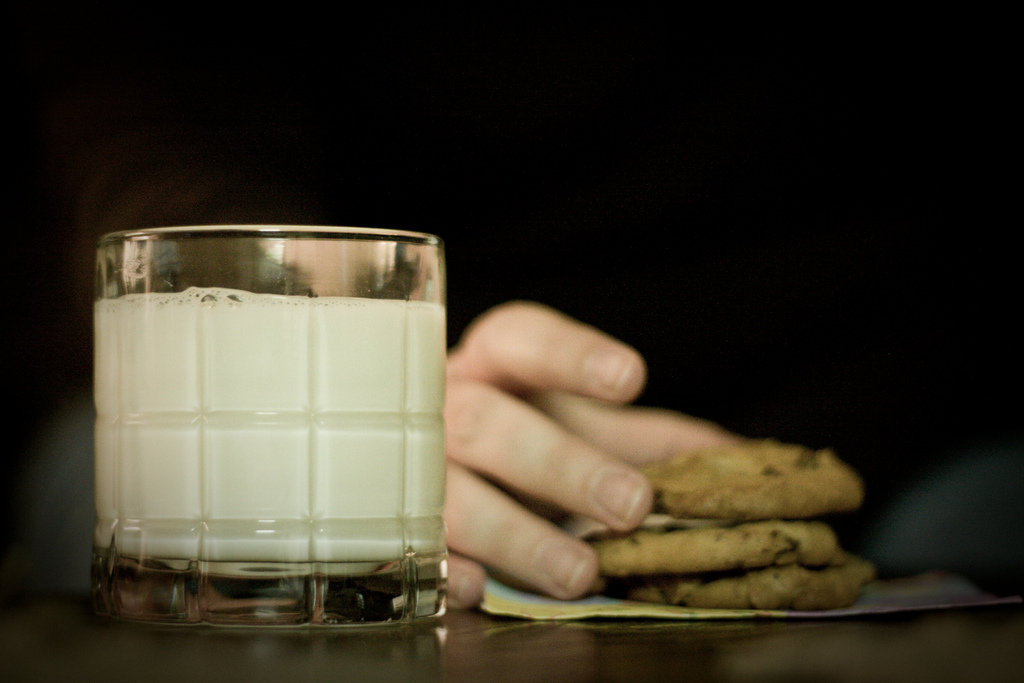glass of milk: (74, 216, 460, 638)
